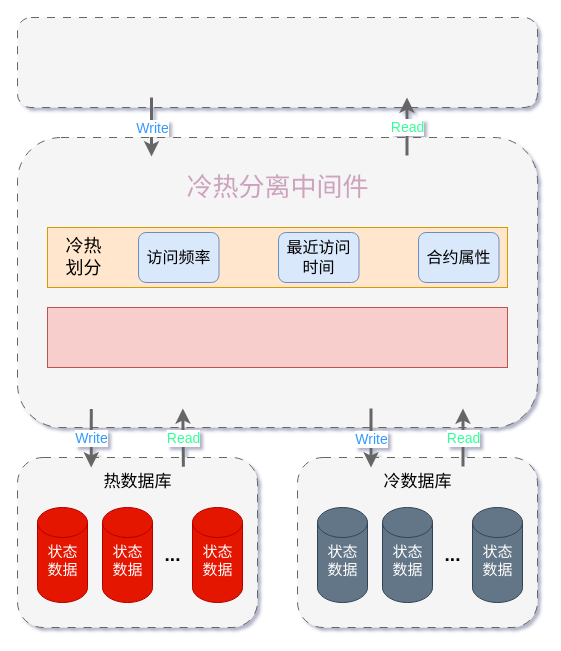
Some shapes in this 561 by 651 pixel diagram are drawn without their labels. The shapes that lost their labels are listed below. From the top down, each one's centre as x and y in pixels, then its label:
(277,62): 长安链节点
(277,337): 数据迁移
